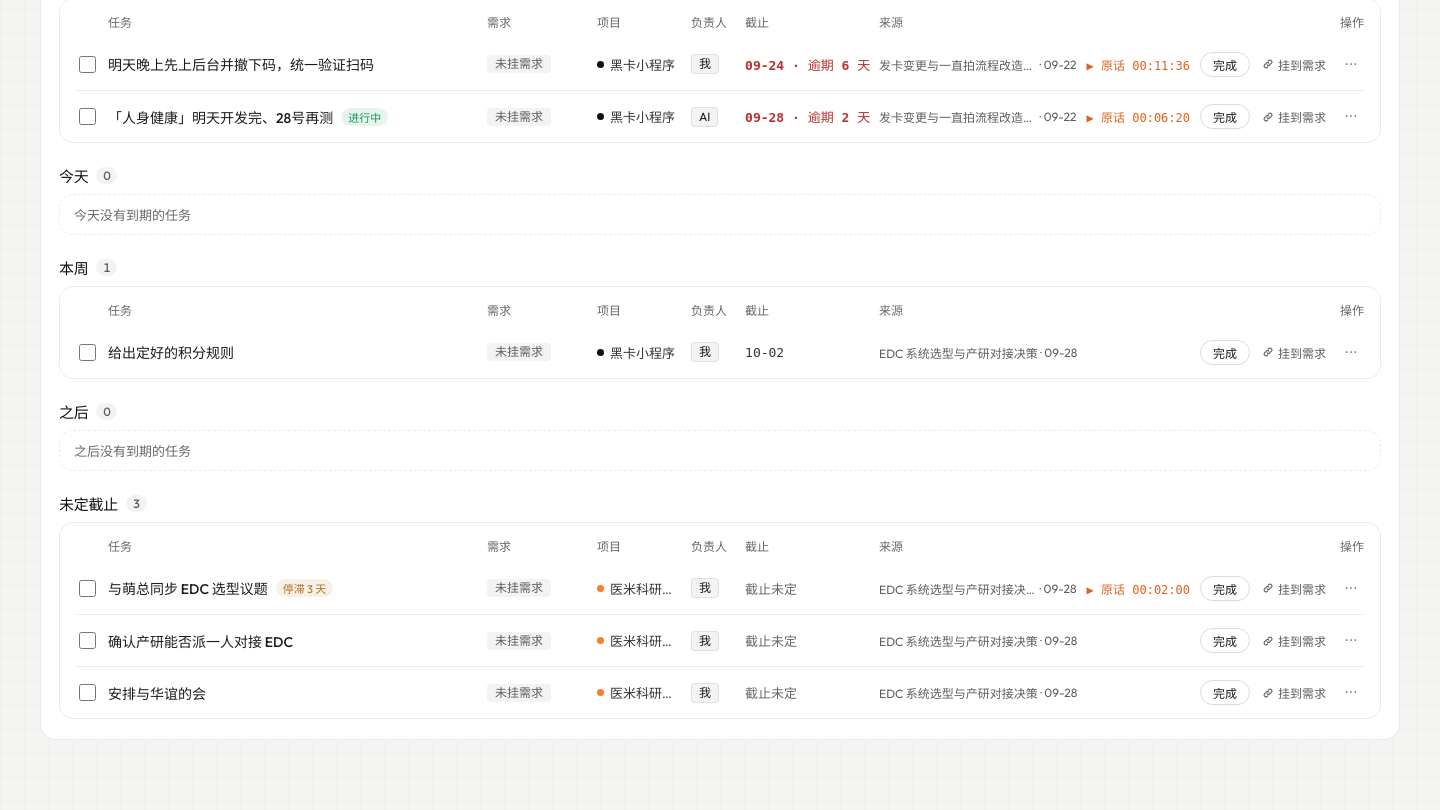
Test: 待办：完成与撤销 › 点［完成］一步完成：任务离开分组，组计数和页头总数同步减 1
(page scrolled)
What coordinates should you click on to do the following:
click the button with aria-label "完成「"
I would click on:
 (1225, 692)
Its box is [1200,680,1250,705].
(page scrolled)
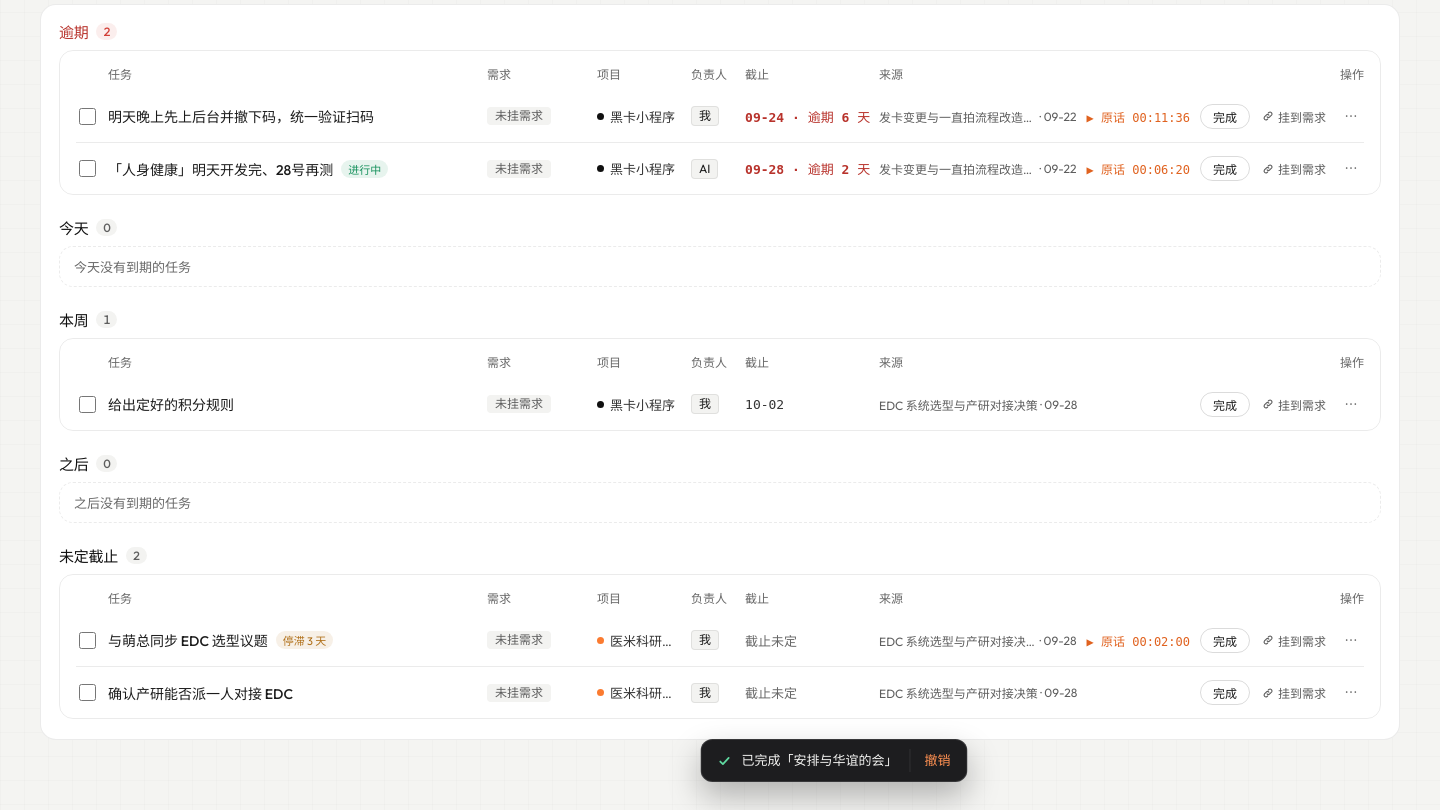
Expected: the message shows "已完成「安排与华谊的会」", [742,752,898,768]
